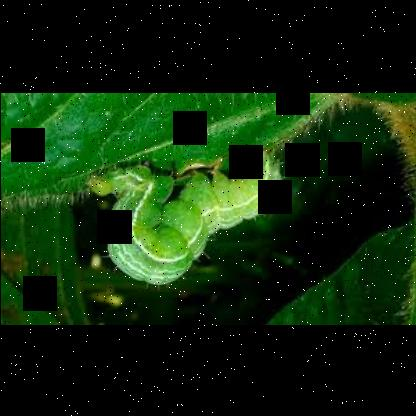oruga: (85, 157, 291, 283)
